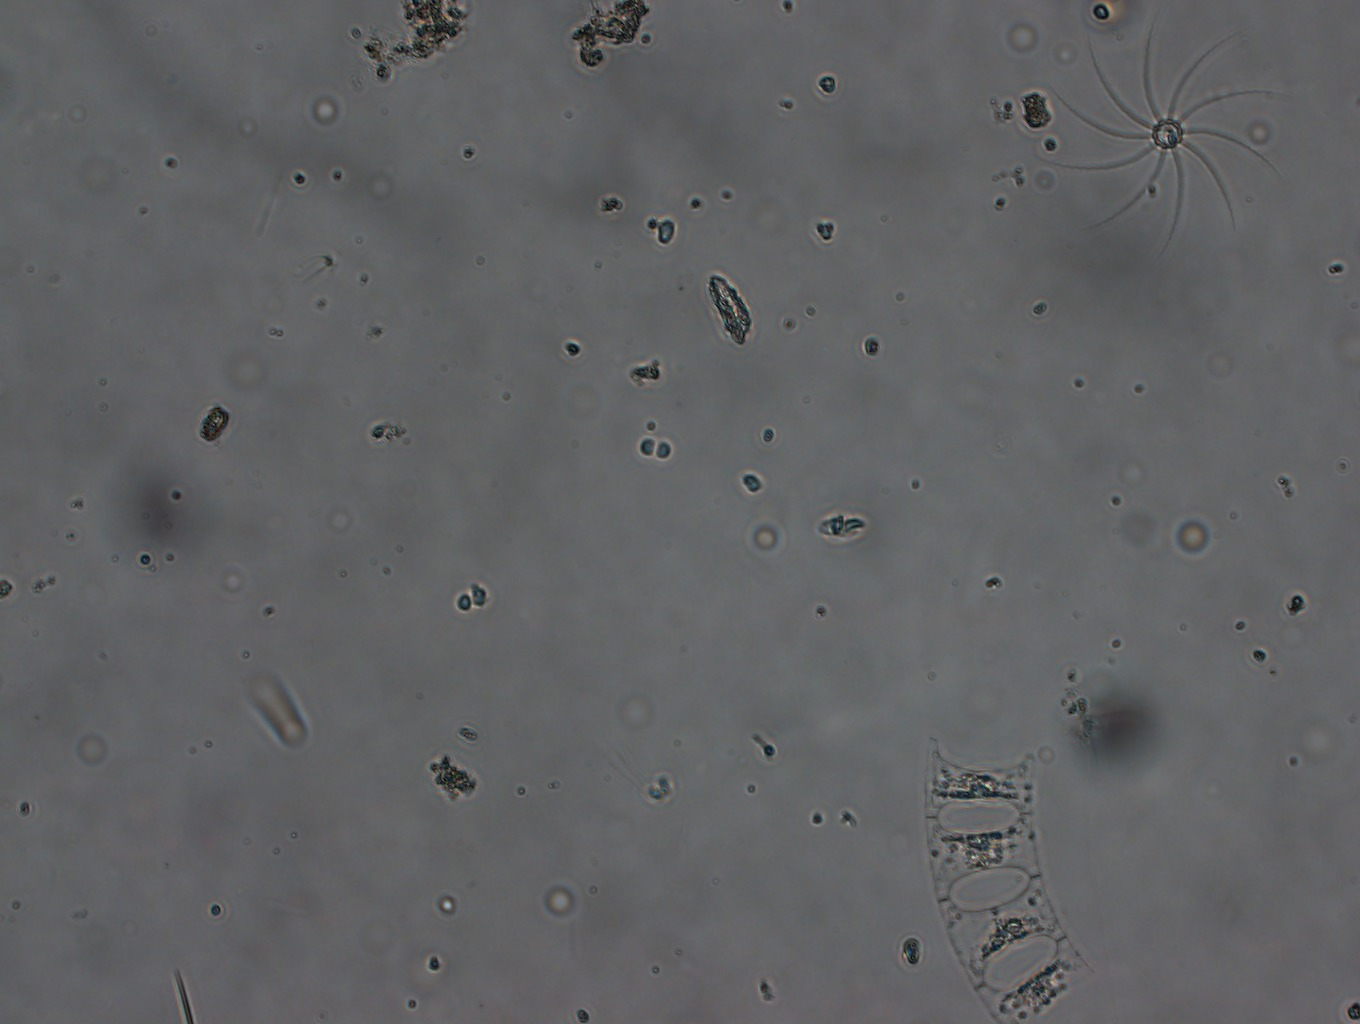bacteriastrum: (1057, 34, 1276, 260)
eucampia: (917, 735, 1091, 1024)
